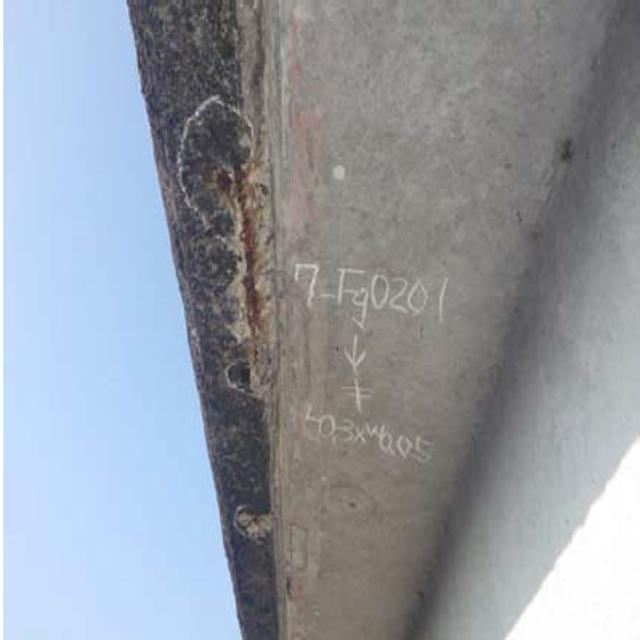spalling: (203, 163, 294, 388), (213, 487, 297, 563)
